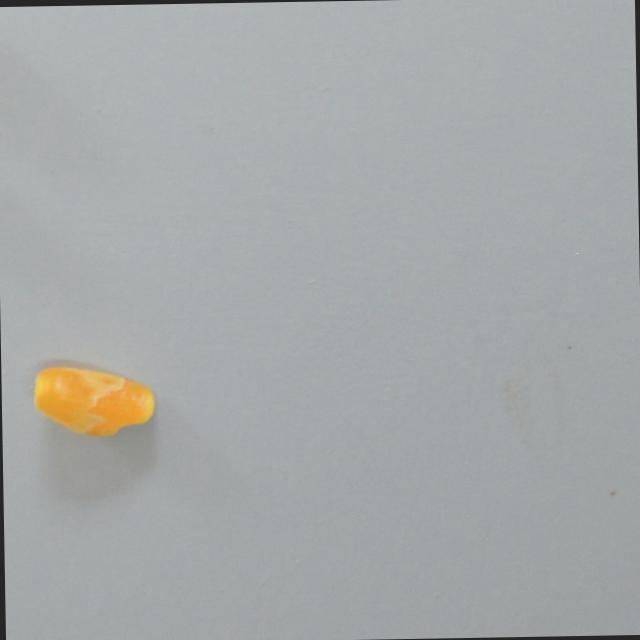pelicula: (27, 355, 160, 443)
